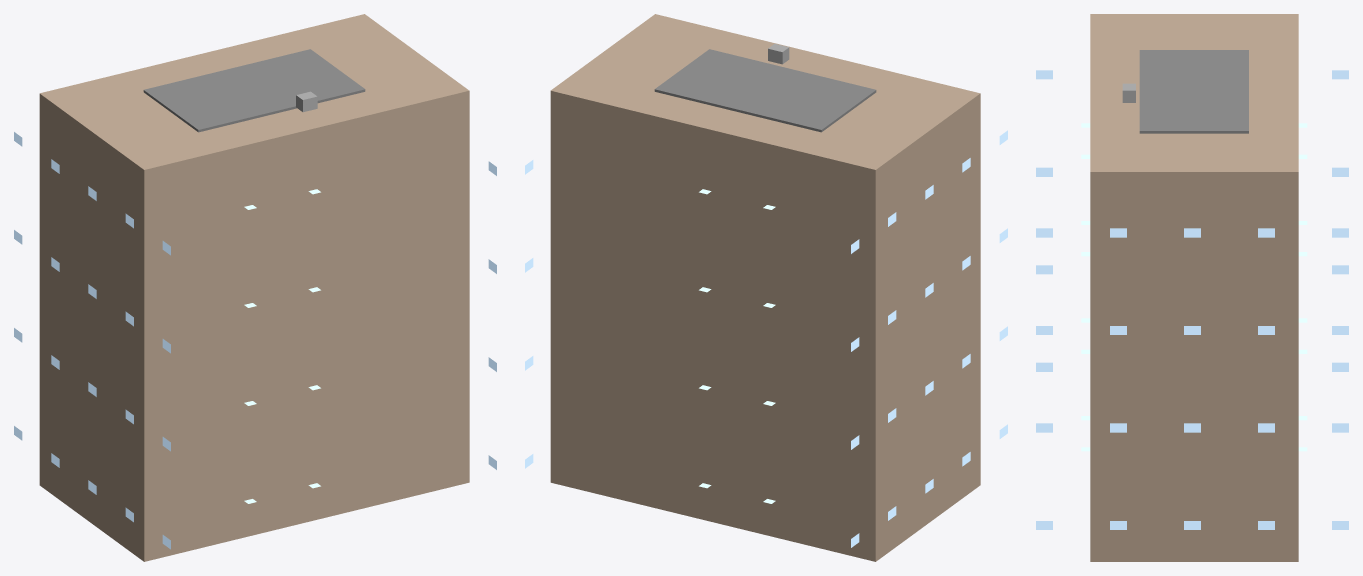
Rendered from residential_0.glb.
The picture shows the model from 3 angles, left to right: view 1: azimuth 30°, elevation 25°; view 2: azimuth 150°, elevation 25°; view 3: azimuth 270°, elevation 25°; orthographic projection.
Visible parts, largest first — view 1: residential_0_body, residential_0_roof; view 2: residential_0_body, residential_0_roof; view 3: residential_0_body, residential_0_roof.
Part boxes in pixels (box(x1,y1,x2,y2)): residential_0_body: box(39, 14, 469, 561); residential_0_roof: box(143, 49, 365, 132); residential_0_body: box(550, 14, 980, 561); residential_0_roof: box(654, 49, 876, 132); residential_0_body: box(1090, 14, 1298, 561); residential_0_roof: box(1139, 50, 1248, 133).
Size of the model in its own units: 11.14 by 13.35 by 9.3.
